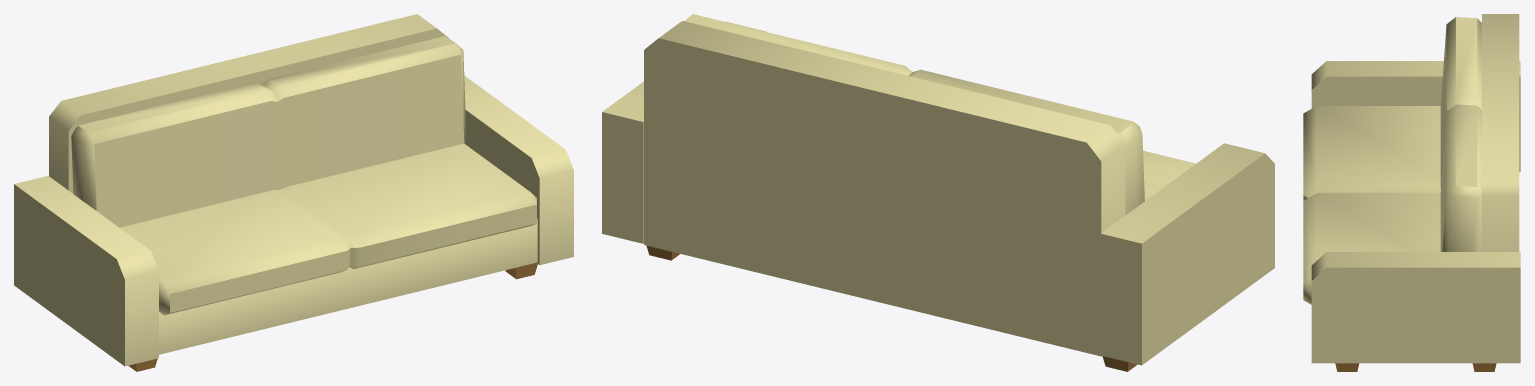
File: couch.glb
The picture shows the model from 3 angles, left to right: view 1: azimuth 30°, elevation 25°; view 2: azimuth 150°, elevation 25°; view 3: azimuth 270°, elevation 25°; orthographic projection. The views are drawn at different scales.
Visible parts, largest first — view 1: couch; view 2: couch; view 3: couch.
Boxes of the visible parts, x1=… form: couch: x1=14, y1=14, x2=573, y2=371; couch: x1=602, y1=14, x2=1274, y2=371; couch: x1=1303, y1=14, x2=1520, y2=371.
Size of the model in its own units: 3.18 by 1.32 by 1.41.
